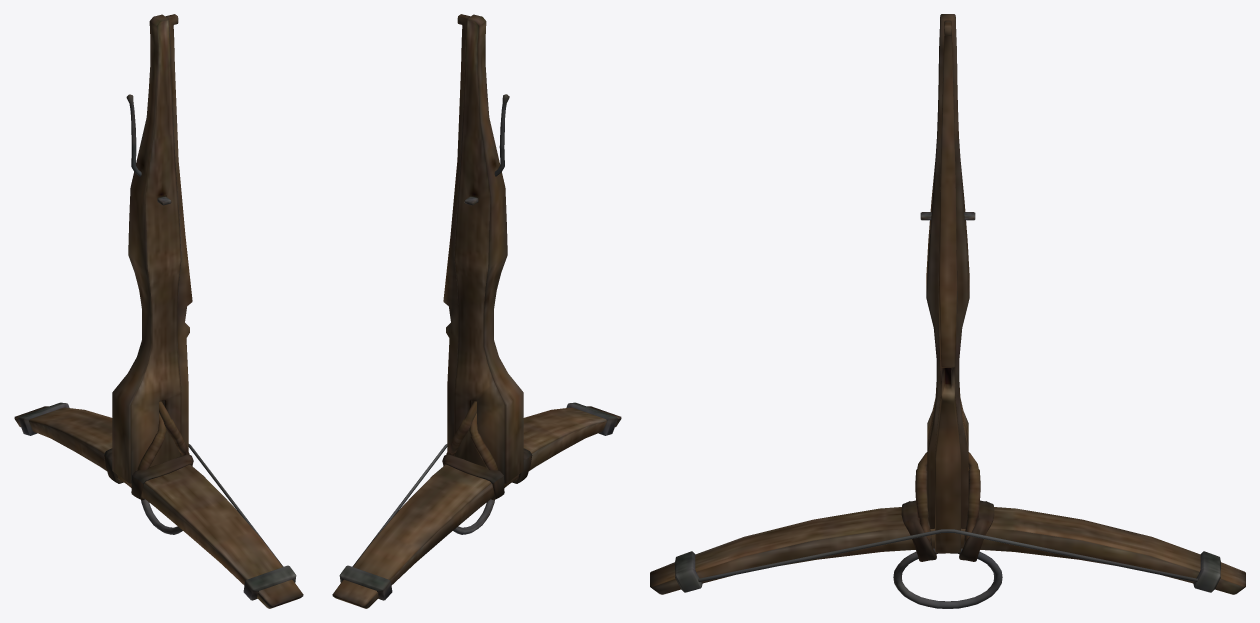
Rendered from weapon-wp_a_1506.glb.
The picture shows the model from 3 angles, left to right: view 1: azimuth 30°, elevation 25°; view 2: azimuth 150°, elevation 25°; view 3: azimuth 270°, elevation 25°; orthographic projection. The views are drawn at different scales.
Parts seen in each view (by area): view 1: wp_a_1506_mesh; view 2: wp_a_1506_mesh; view 3: wp_a_1506_mesh.
Part boxes in pixels (x1,y1,x2,y2): wp_a_1506_mesh: (14,14,303,608); wp_a_1506_mesh: (332,14,621,608); wp_a_1506_mesh: (650,14,1245,608).
Bounding box in the file's own units: 0.1485 × 1.05 × 0.9543.
Materials: 1 (1 with a texture image).
